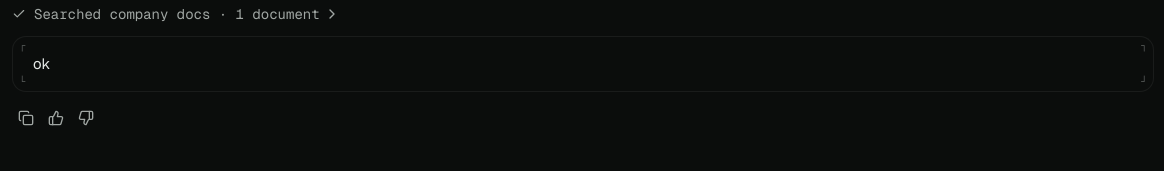
it: the steps trace › folds a finished answer's steps into one line, and shows no raw tool input to members
This screenshot has width=1164, height=171.
Click the button "Searched company docs · 1 document" at x=176, y=14, box x1=12 y1=4 x2=340 y2=24
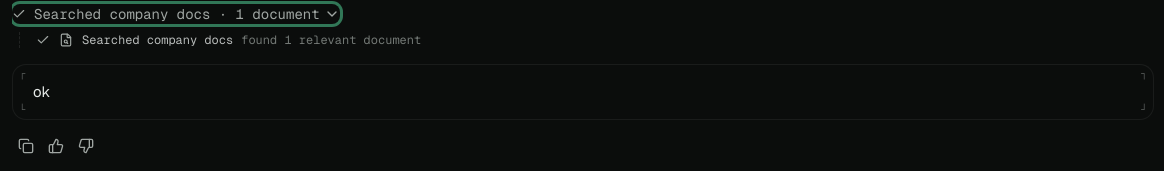
Expected: the text "found 1 relevant document" is shown, x1=241 y1=32 x2=421 y2=48
